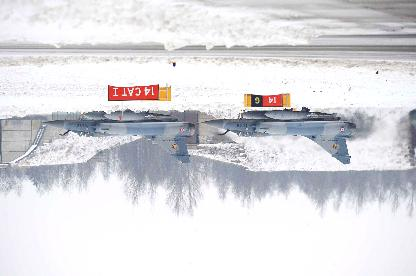Mirage2000: (198, 107, 356, 165), (38, 108, 196, 164)
